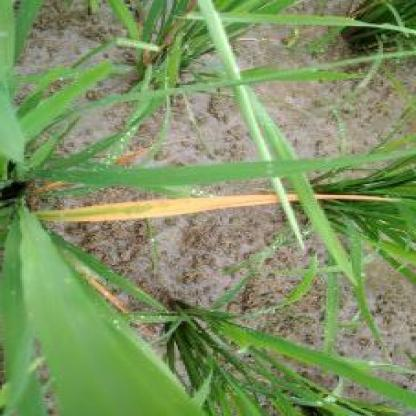Tungro: (31, 196, 280, 225)
